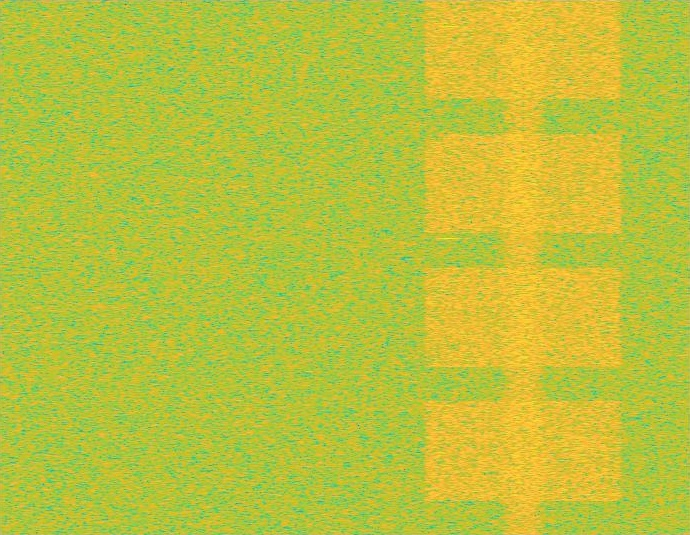5G: (420, 0, 627, 534)
DSSS: (500, 0, 547, 534)
Radar: (442, 0, 456, 534)
